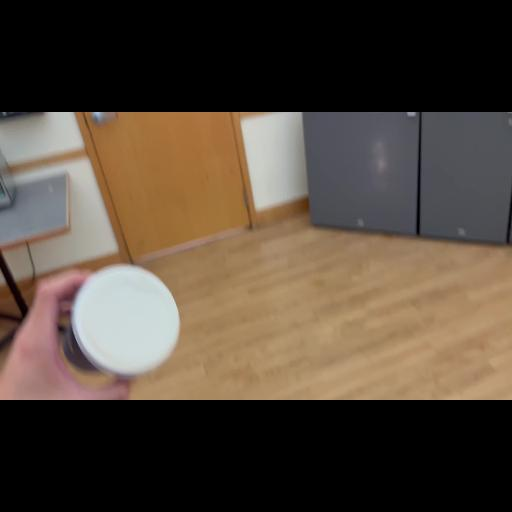lp_paper_cup: (50, 260, 184, 390)
